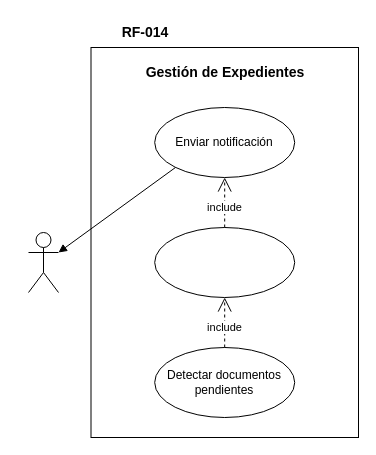
Image size: 376x455. Some labels were removed from this diagram. Each missing label, with the centre of its shape:
"Generar notificación" goes at point (224, 262).
"Terapeuta" goes at point (43, 262).
